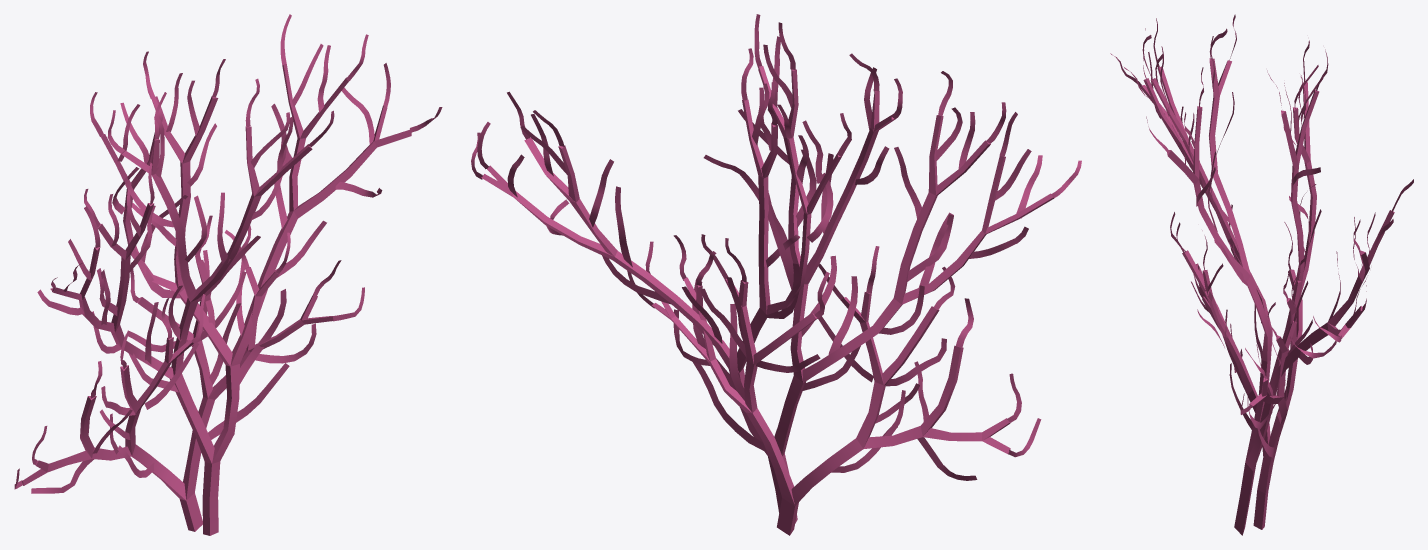
The model's file is coral_B_medium.fbx.
3 renders of one model, left to right at view 1: azimuth 30°, elevation 25°; view 2: azimuth 150°, elevation 25°; view 3: azimuth 270°, elevation 25°, orthographic. The views are drawn at different scales.
Parts seen in each view (by area): view 1: coral_B_medium_twigs, coral_B_medium_leaves; view 2: coral_B_medium_twigs, coral_B_medium_leaves; view 3: coral_B_medium_twigs, coral_B_medium_leaves.
Boxes of the visible parts, <box> form: coral_B_medium_twigs: <box>22,64,411,535</box>; coral_B_medium_leaves: <box>14,14,442,493</box>; coral_B_medium_twigs: <box>481,66,1053,535</box>; coral_B_medium_leaves: <box>471,14,1081,480</box>; coral_B_medium_twigs: <box>1140,58,1394,535</box>; coral_B_medium_leaves: <box>1110,14,1413,457</box>.
Size of the model in its own units: 215 by 196 by 112.
